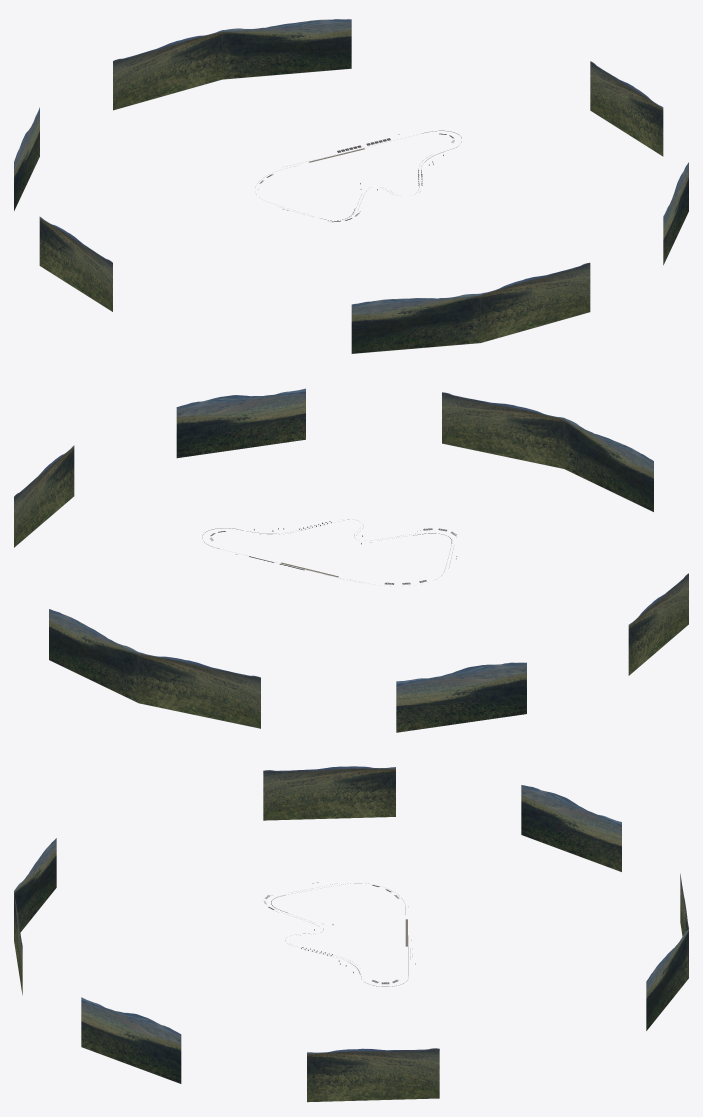
3 views of the same model, one above another, from view 1: azimuth 30°, elevation 25°; view 2: azimuth 150°, elevation 25°; view 3: azimuth 270°, elevation 25° (orthographic). The views are drawn at different scales.
Parts seen in each view (by area): view 1: highspeedring2_2; view 2: highspeedring2_2; view 3: highspeedring2_2.
Part boxes in pixels (box(x1,y1,x2,y2)): highspeedring2_2: box(14, 19, 688, 353); highspeedring2_2: box(14, 388, 688, 732); highspeedring2_2: box(14, 766, 688, 1102).
Size of the model in its own units: 3985 by 364 by 3985.
Materials: 11 (11 with a texture image).
